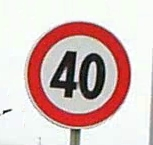limite 40: (24, 23, 130, 129)
